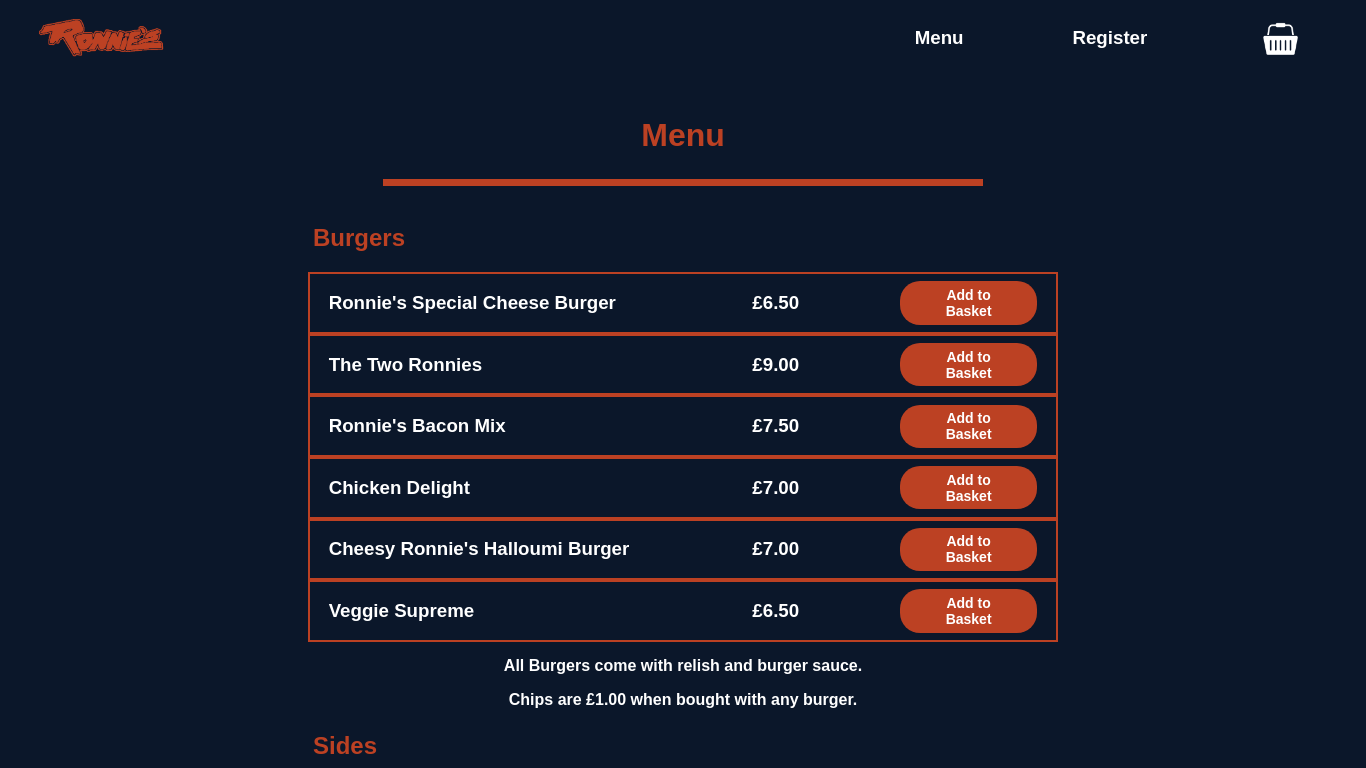
Test case: Header: › Takes me to the register page when I click the link
The image size is (1366, 768).
Click the link "Register" at (1110, 38), box [1072,27,1147,48]
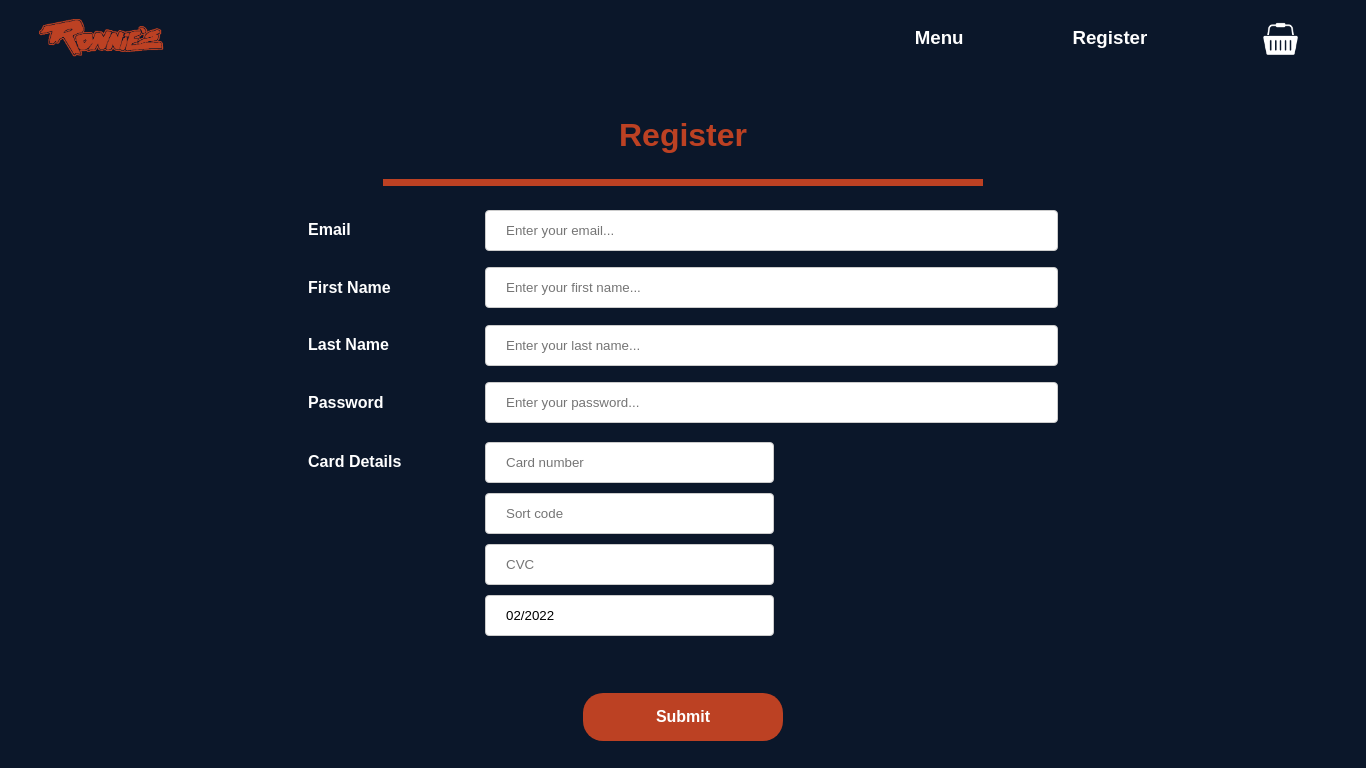
Expected: the field with placeholder "Enter your email..." is shown, [485,210,1058,251]
